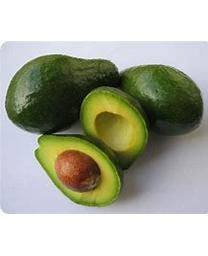avocado: (6, 54, 121, 134), (35, 132, 124, 209), (115, 65, 203, 136), (79, 86, 151, 172)
